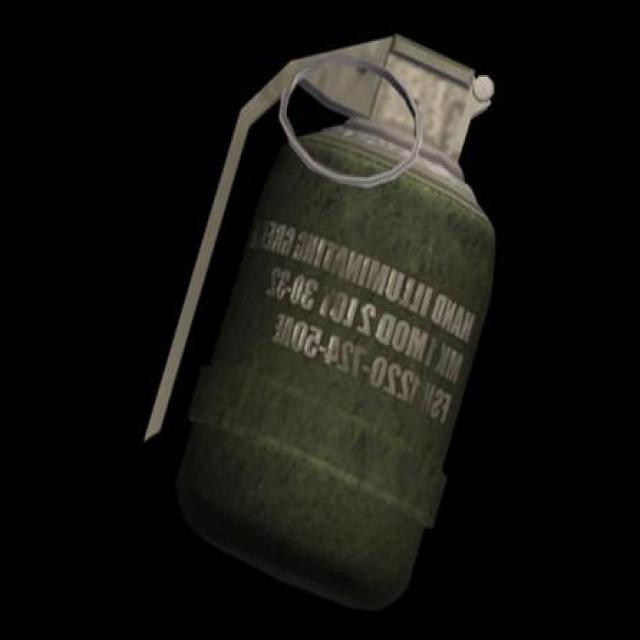grenade: (143, 37, 498, 610)
